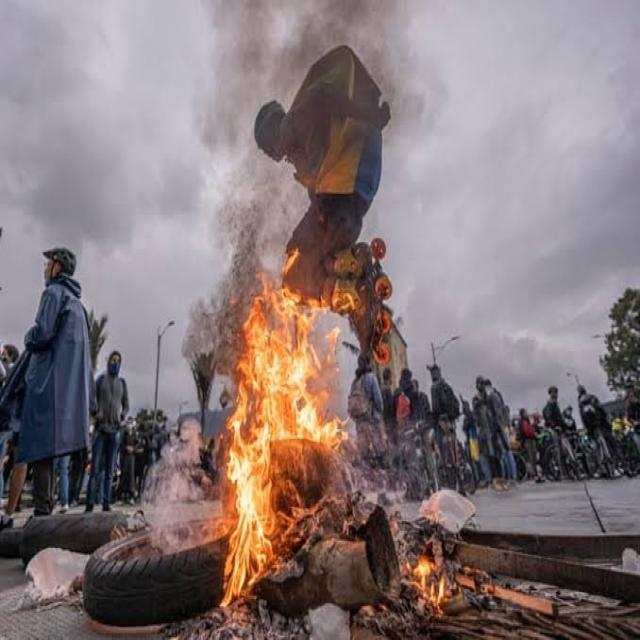fire: (227, 249, 340, 422), (271, 423, 347, 575), (220, 421, 271, 608)
